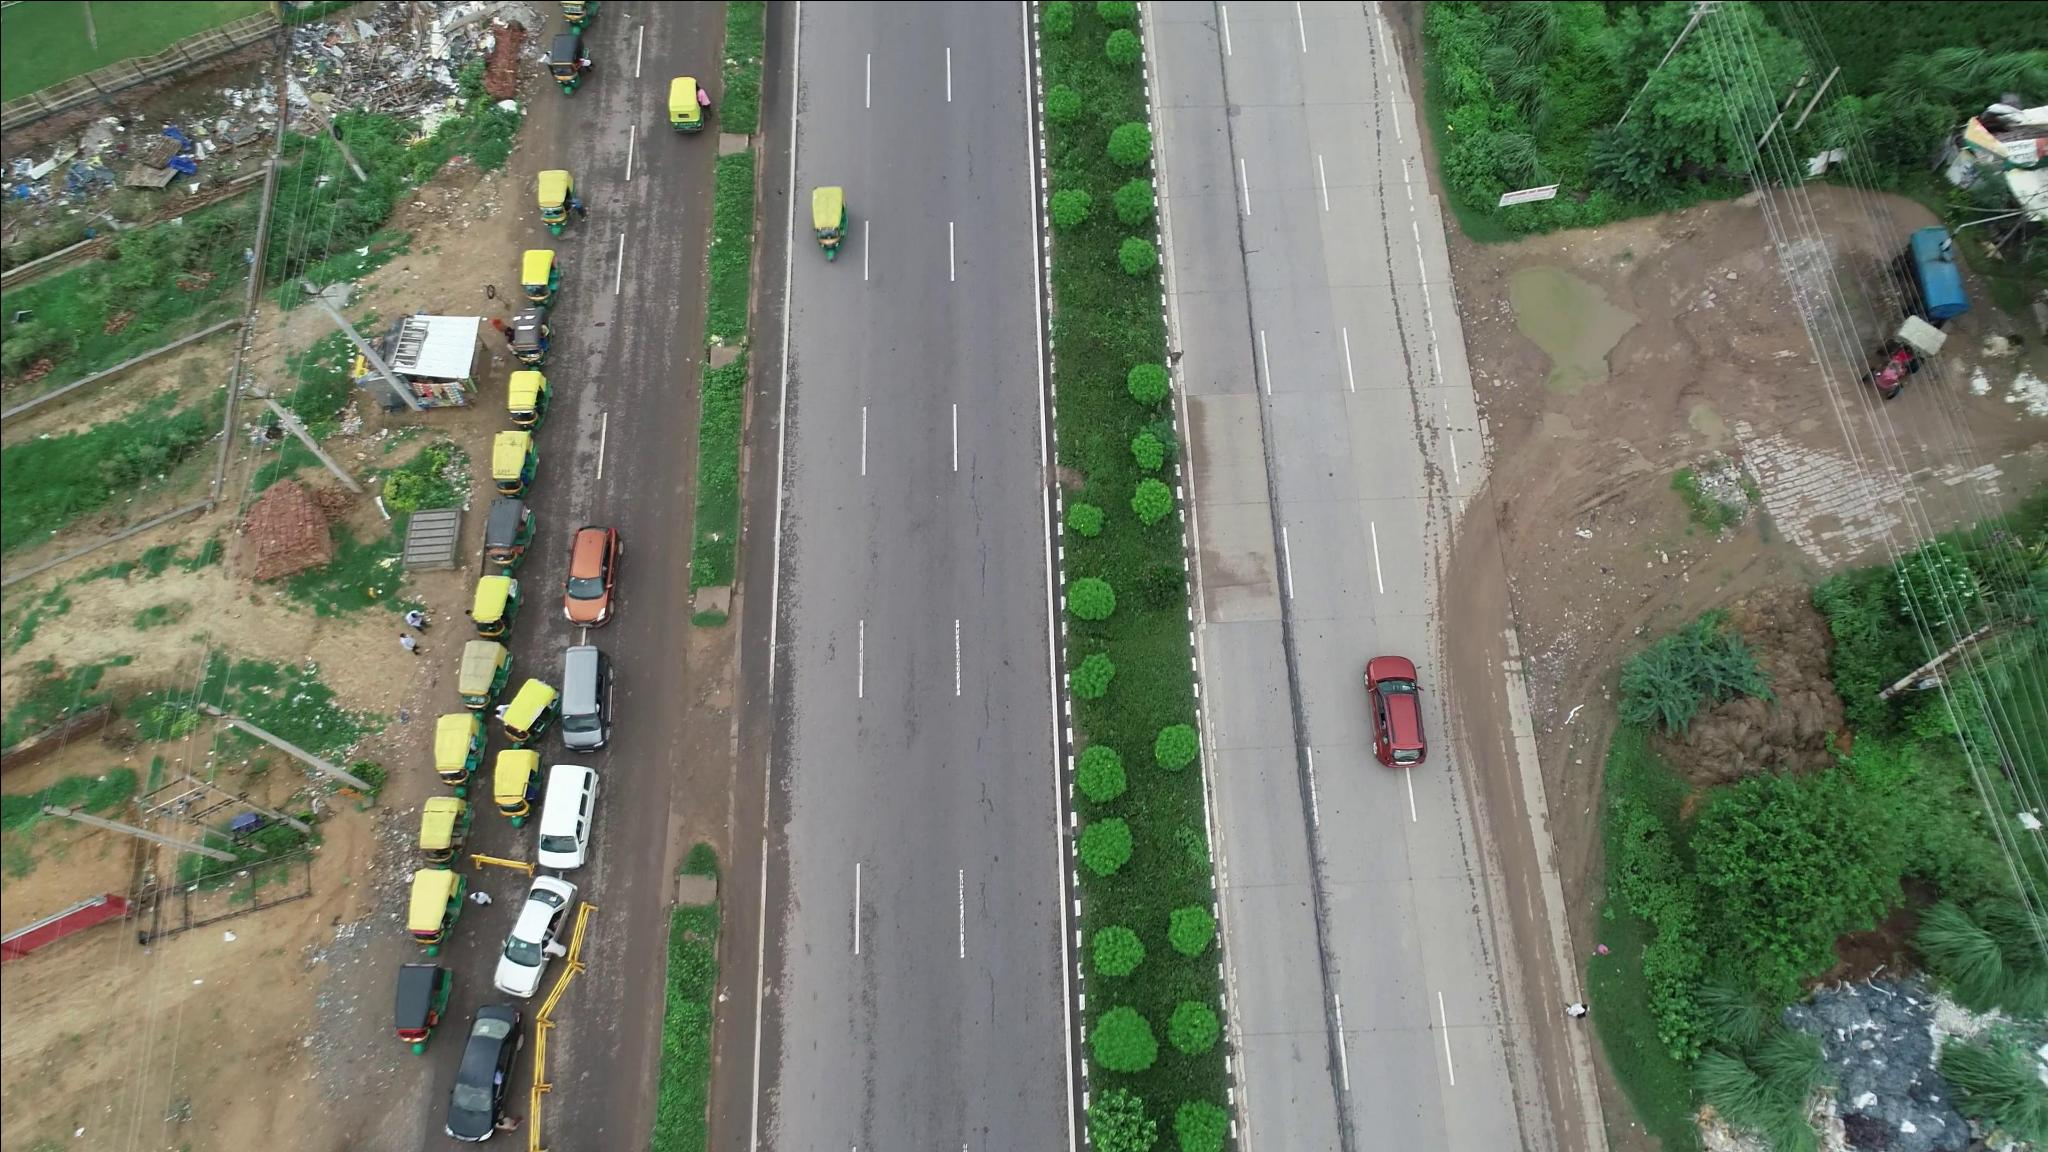Cracks: (958, 443, 1004, 615)
